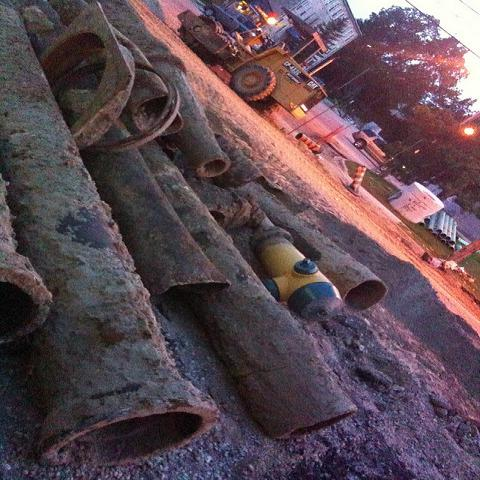car: (206, 1, 262, 31), (351, 128, 388, 166)
